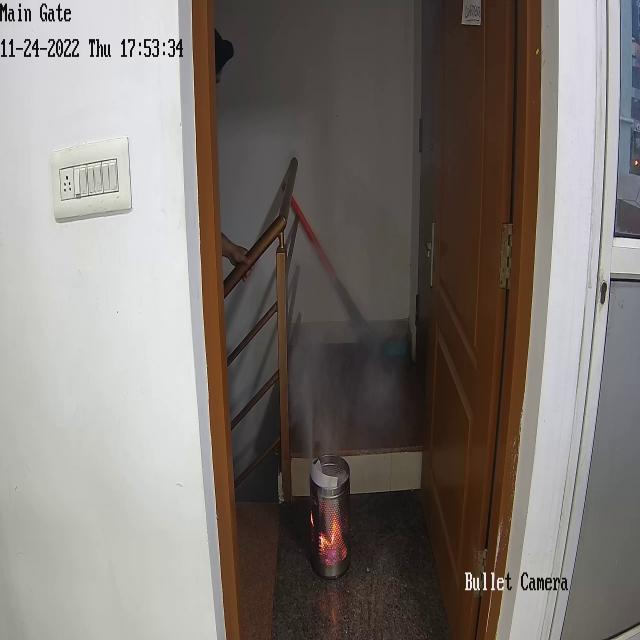fire: (321, 506, 344, 562)
smoke: (364, 330, 404, 432), (288, 330, 326, 420), (330, 368, 378, 426), (301, 408, 336, 454), (304, 266, 326, 317)
